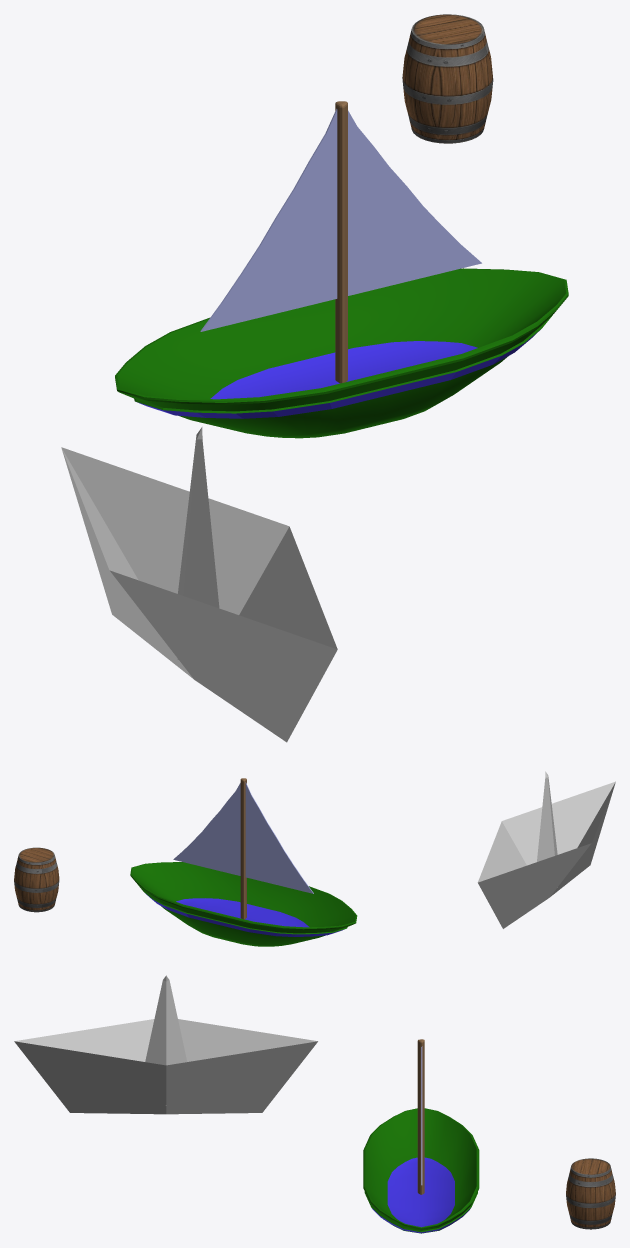
File: Props.fbx
The picture shows the model from 3 angles, top to bottom: view 1: azimuth 30°, elevation 25°; view 2: azimuth 150°, elevation 25°; view 3: azimuth 270°, elevation 25°; orthographic projection. The views are drawn at different scales.
Parts seen in each view (by area): view 1: BoatBig, Boat.004, Barell; view 2: BoatBig, Boat.004, Barell; view 3: Boat.004, BoatBig, Barell.
Part boxes in pixels (left/top/right/bottom): BoatBig: left=115, top=101, right=568, bottom=438; Boat.004: left=61, top=427, right=337, bottom=742; Barell: left=402, top=14, right=493, bottom=143; BoatBig: left=130, top=778, right=357, bottom=946; Boat.004: left=477, top=771, right=615, bottom=928; Barell: left=14, top=847, right=59, bottom=912; Boat.004: left=14, top=975, right=317, bottom=1114; BoatBig: left=363, top=1039, right=479, bottom=1233; Barell: left=566, top=1158, right=615, bottom=1229.
Size of the model in its own units: 591 by 233 by 733.
